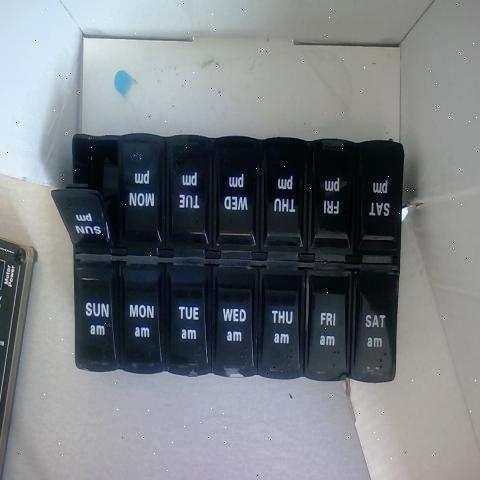FRI-am: (309, 269, 347, 378)
FRI-pm: (314, 141, 352, 262)
MON-am: (122, 266, 162, 370)
MON-pm: (118, 143, 164, 256)
Open: (69, 136, 120, 251)
SAT-am: (354, 266, 392, 388)
SAT-pm: (358, 146, 400, 262)
SUN-am: (56, 192, 112, 252)
SUN-pm: (72, 262, 117, 372)
THU-am: (260, 269, 301, 381)
THU-pm: (262, 139, 304, 262)
TUE-am: (167, 263, 208, 379)
TUE-pm: (169, 138, 212, 252)
WED-am: (214, 270, 255, 380)
WED-pm: (216, 145, 258, 263)
